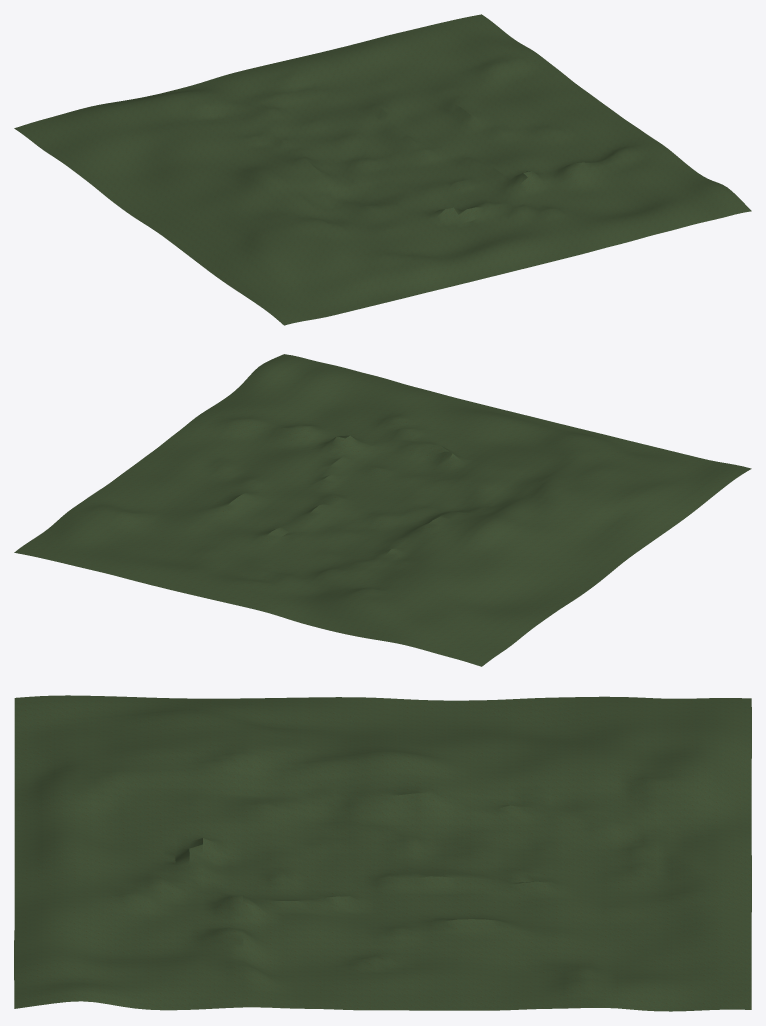
Rendered from terrain.glb.
The picture shows the model from 3 angles, top to bottom: view 1: azimuth 30°, elevation 25°; view 2: azimuth 150°, elevation 25°; view 3: azimuth 270°, elevation 25°; orthographic projection. The views are drawn at different scales.
Parts seen in each view (by area): view 1: Plane; view 2: Plane; view 3: Plane.
Boxes of the visible parts, x1,y1,x2,y2 form: Plane: (14,14,751,325); Plane: (14,354,751,666); Plane: (14,695,751,1011).
Size of the model in its own units: 501 by 19.59 by 501.
Materials: 1 (1 with a texture image).
